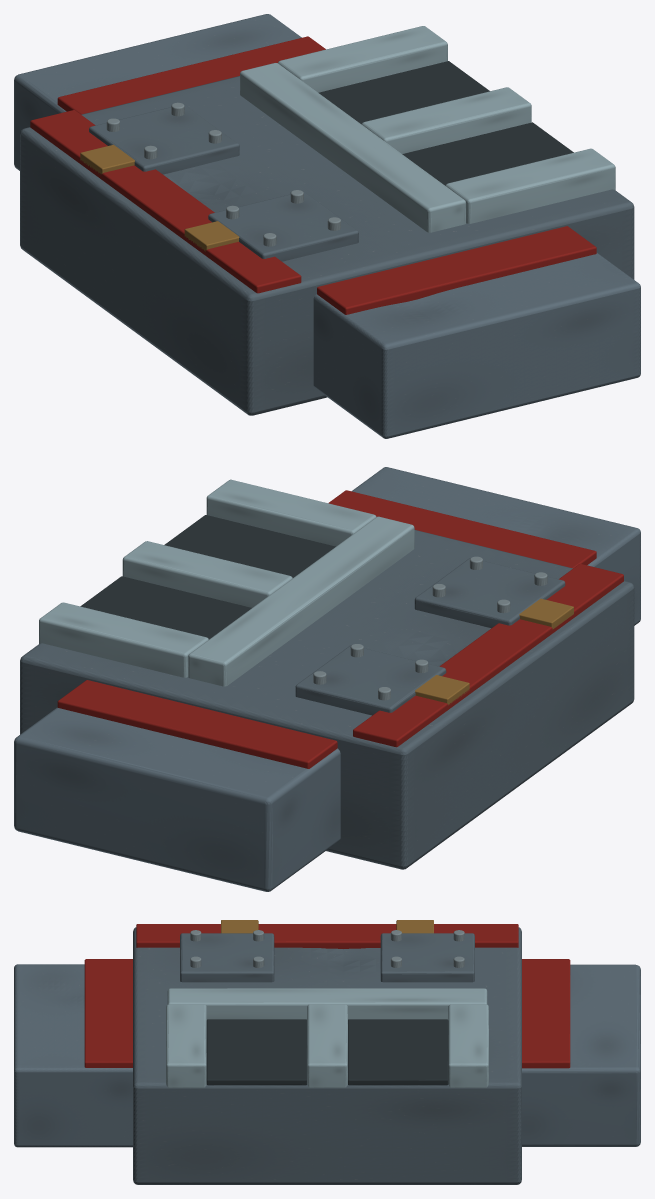
3 views of the same model, one above another, from view 1: azimuth 30°, elevation 25°; view 2: azimuth 150°, elevation 25°; view 3: azimuth 270°, elevation 25° (orthographic). The views are drawn at different scales.
Visible parts, largest first — view 1: Mauna Major Hurt Unit central casing, Mauna Major Hurt Unit forward terminal, Mauna Major Hurt Unit pale side spine, Mauna Major Hurt Unit rear terminal, Mauna Major Hurt Unit red terminal field 0, Mauna Major Hurt Unit red longitudinal field, Mauna Major Hurt Unit pale crossbar 0, Mauna Major Hurt Unit pale crossbar 1, Mauna Major Hurt Unit pale crossbar 2, Mauna Major Hurt Unit service cover 1, Mauna Major Hurt Unit service cover 0, Mauna Major Hurt Unit red terminal field 1 (+4 smaller); view 2: Mauna Major Hurt Unit central casing, Mauna Major Hurt Unit rear terminal, Mauna Major Hurt Unit pale side spine, Mauna Major Hurt Unit forward terminal, Mauna Major Hurt Unit red terminal field 1, Mauna Major Hurt Unit red longitudinal field, Mauna Major Hurt Unit pale crossbar 2, Mauna Major Hurt Unit pale crossbar 1, Mauna Major Hurt Unit pale crossbar 0, Mauna Major Hurt Unit service cover 0, Mauna Major Hurt Unit service cover 1, Mauna Major Hurt Unit red terminal field 0 (+4 smaller); view 3: Mauna Major Hurt Unit central casing, Mauna Major Hurt Unit forward terminal, Mauna Major Hurt Unit rear terminal, Mauna Major Hurt Unit pale side spine, Mauna Major Hurt Unit dark inset floor 0, Mauna Major Hurt Unit dark inset floor 1, Mauna Major Hurt Unit red longitudinal field, Mauna Major Hurt Unit red terminal field 1, Mauna Major Hurt Unit red terminal field 0, Mauna Major Hurt Unit service cover 0, Mauna Major Hurt Unit service cover 1, Mauna Major Hurt Unit pale crossbar 1 (+4 smaller).
Boxes of the visible parts, x1=… form: Mauna Major Hurt Unit central casing: x1=20, y1=76, x2=634, y2=415; Mauna Major Hurt Unit forward terminal: x1=313, y1=253, x2=640, y2=438; Mauna Major Hurt Unit pale side spine: x1=240, y1=63, x2=466, y2=232; Mauna Major Hurt Unit rear terminal: x1=14, y1=14, x2=301, y2=170; Mauna Major Hurt Unit red terminal field 0: x1=317, y1=226, x2=596, y2=314; Mauna Major Hurt Unit red longitudinal field: x1=30, y1=110, x2=301, y2=293; Mauna Major Hurt Unit pale crossbar 0: x1=445, y1=148, x2=615, y2=223; Mauna Major Hurt Unit pale crossbar 1: x1=361, y1=87, x2=531, y2=153; Mauna Major Hurt Unit pale crossbar 2: x1=278, y1=26, x2=447, y2=92; Mauna Major Hurt Unit service cover 1: x1=89, y1=104, x2=239, y2=174; Mauna Major Hurt Unit service cover 0: x1=208, y1=191, x2=358, y2=261; Mauna Major Hurt Unit red terminal field 1: x1=57, y1=36, x2=325, y2=114; Mauna Major Hurt Unit central casing: x1=20, y1=530, x2=634, y2=869; Mauna Major Hurt Unit rear terminal: x1=14, y1=707, x2=340, y2=891; Mauna Major Hurt Unit pale side spine: x1=188, y1=516, x2=414, y2=686; Mauna Major Hurt Unit forward terminal: x1=352, y1=467, x2=640, y2=625; Mauna Major Hurt Unit red terminal field 1: x1=57, y1=680, x2=337, y2=768; Mauna Major Hurt Unit red longitudinal field: x1=353, y1=564, x2=623, y2=747; Mauna Major Hurt Unit pale crossbar 2: x1=39, y1=602, x2=208, y2=677; Mauna Major Hurt Unit pale crossbar 1: x1=122, y1=541, x2=292, y2=607; Mauna Major Hurt Unit pale crossbar 0: x1=206, y1=479, x2=376, y2=546; Mauna Major Hurt Unit service cover 0: x1=414, y1=558, x2=565, y2=628; Mauna Major Hurt Unit service cover 1: x1=295, y1=645, x2=446, y2=715; Mauna Major Hurt Unit red terminal field 0: x1=328, y1=490, x2=596, y2=568; Mauna Major Hurt Unit central casing: x1=133, y1=927, x2=521, y2=1184; Mauna Major Hurt Unit forward terminal: x1=14, y1=964, x2=132, y2=1147; Mauna Major Hurt Unit rear terminal: x1=522, y1=964, x2=640, y2=1146; Mauna Major Hurt Unit pale side spine: x1=167, y1=988, x2=487, y2=1019; Mauna Major Hurt Unit dark inset floor 0: x1=206, y1=1019, x2=306, y2=1085; Mauna Major Hurt Unit dark inset floor 1: x1=348, y1=1019, x2=448, y2=1085; Mauna Major Hurt Unit red longitudinal field: x1=136, y1=924, x2=518, y2=948; Mauna Major Hurt Unit red terminal field 1: x1=522, y1=959, x2=570, y2=1068; Mauna Major Hurt Unit red terminal field 0: x1=84, y1=959, x2=132, y2=1067; Mauna Major Hurt Unit service cover 0: x1=180, y1=933, x2=274, y2=982; Mauna Major Hurt Unit service cover 1: x1=380, y1=933, x2=474, y2=982; Mauna Major Hurt Unit pale crossbar 1: x1=307, y1=1004, x2=347, y2=1087.
Bounding box in the file's own units: 1.2 × 0.4425 × 2.
Materials: 7 (3 with a texture image).
